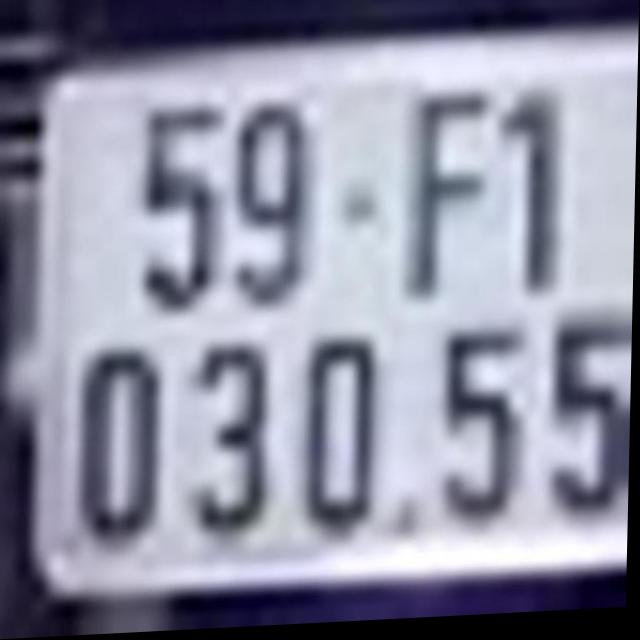0: (77, 339, 166, 541), (301, 332, 391, 526)
1: (505, 90, 579, 304)
3: (187, 339, 282, 540)
5: (536, 309, 634, 514), (442, 319, 530, 529), (144, 99, 220, 321)
9: (229, 98, 317, 322)
F: (396, 86, 497, 313)
